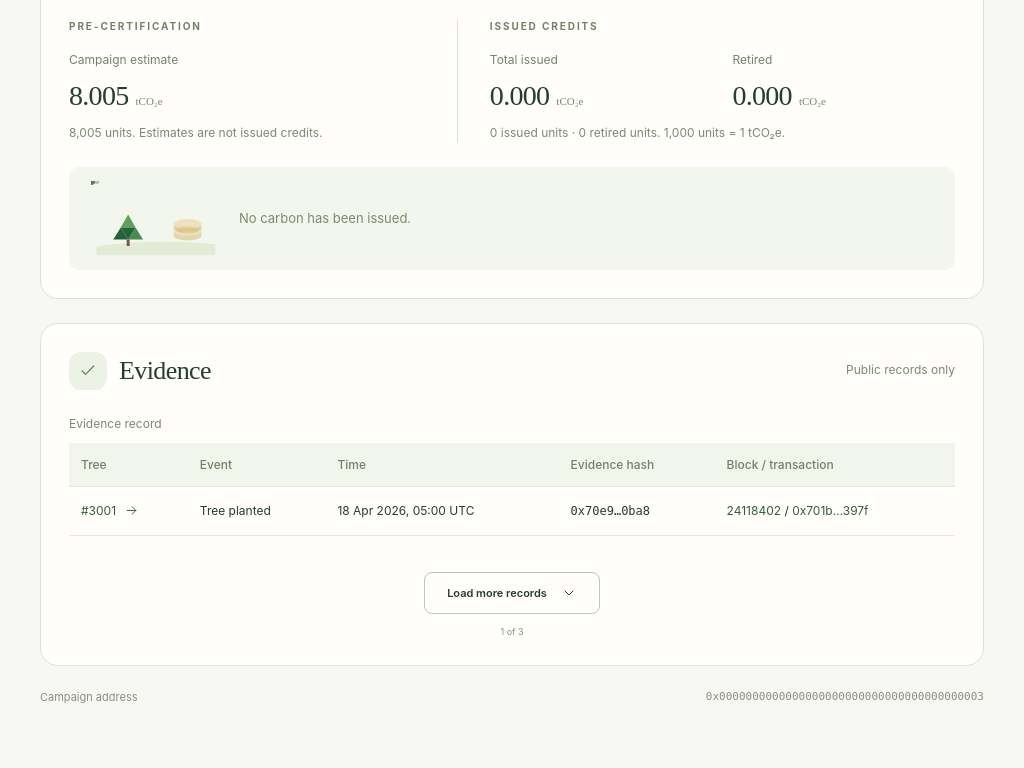
S06 evidence paging › E-4: load more sends the cursor, appends the rows and ends at the total
(page scrolled)
Check: the text "1 of 3" is shown, box [500,626,524,637]
Step 1. Click the button with test id "evidence-more" → (512, 593), box [424,572,600,614]
(page scrolled)
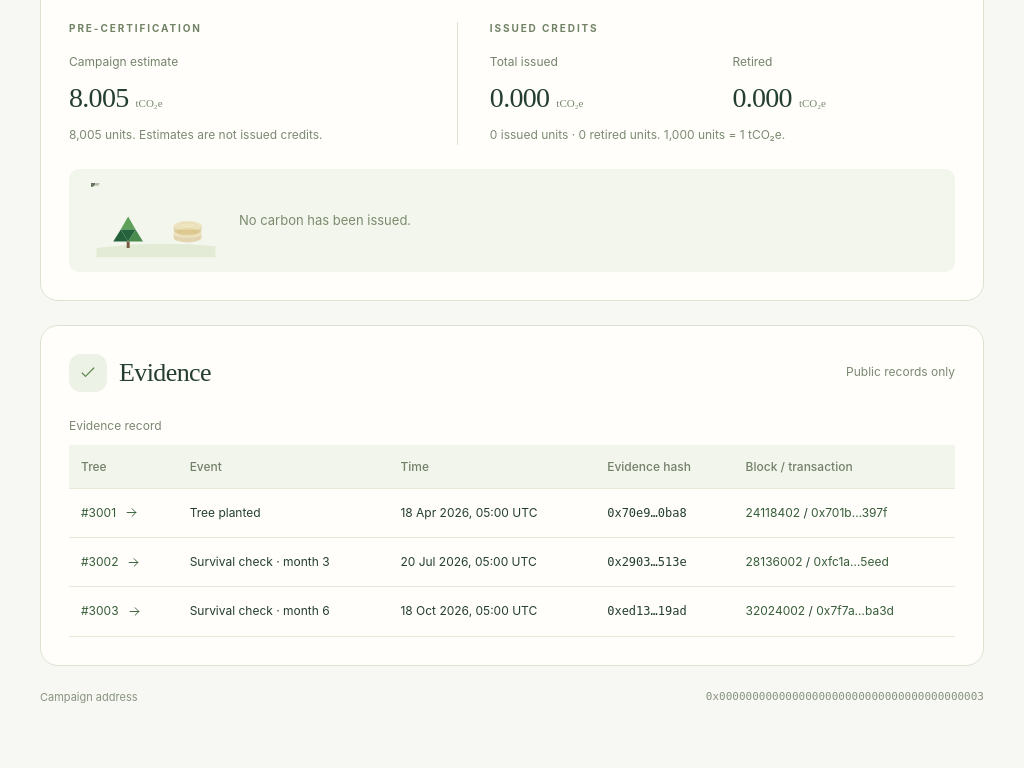
Check: the button with test id "evidence-more" is gone
